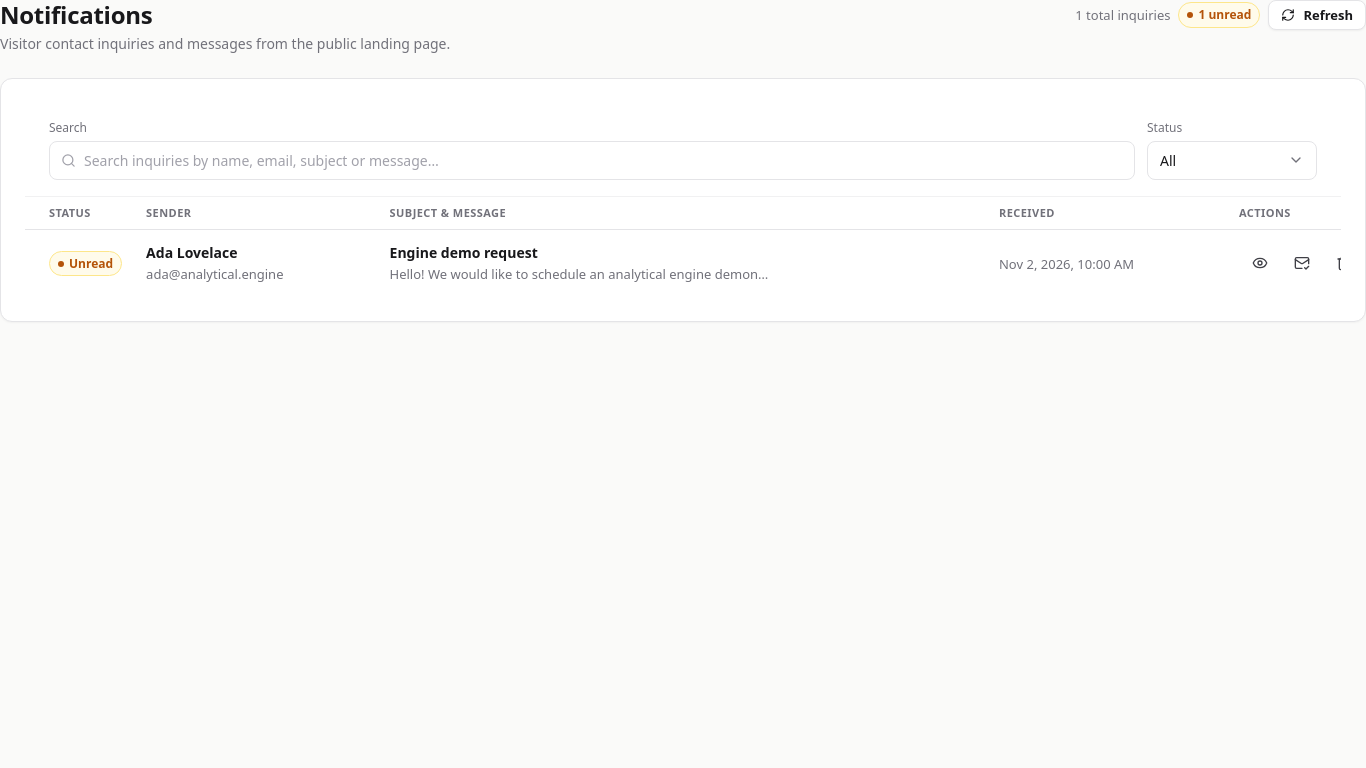
Test: AdminNotificationsPage › opens details modal and automatically marks unread message as read
The width and height of the screenshot is (1366, 768).
Click the text "Ada Lovelace" at [192, 253], box [146,243,238,262]
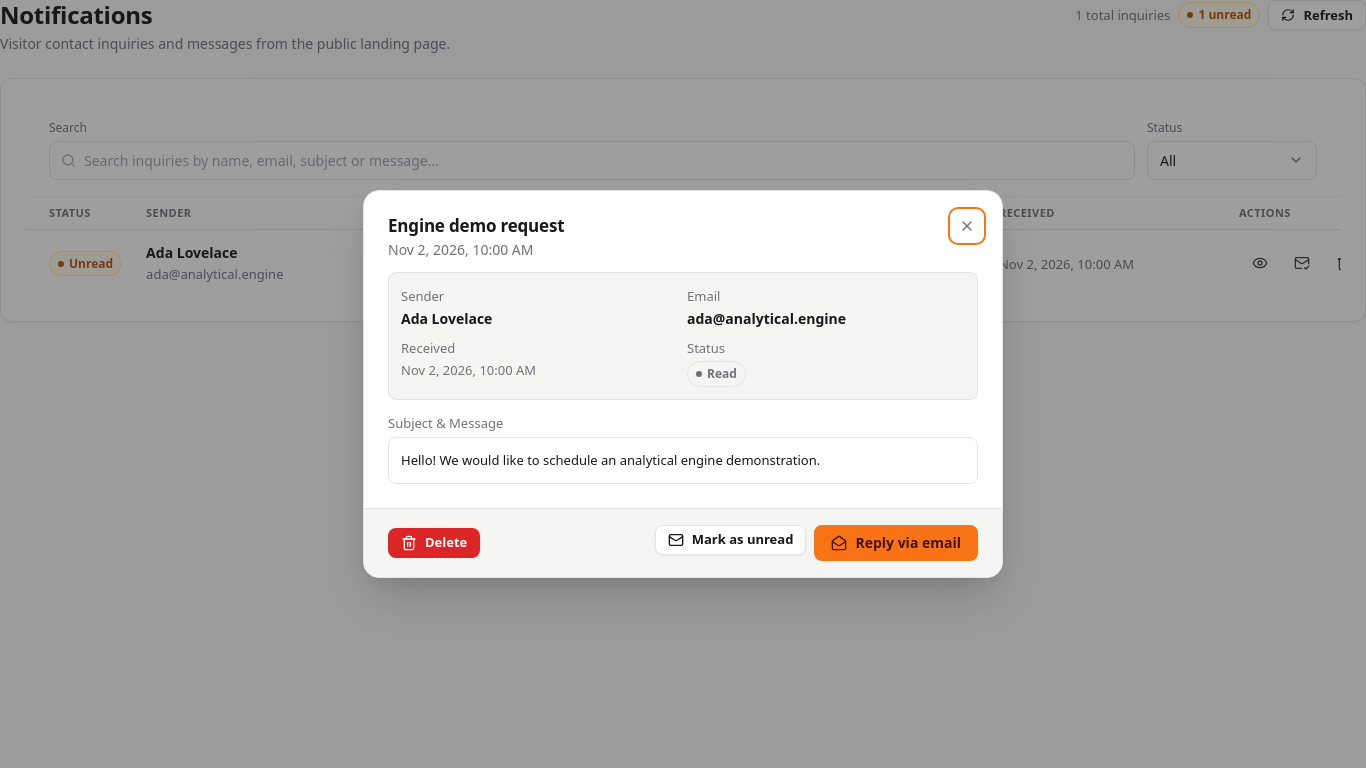
Check: the text "Reply via email" is shown, box [855,536,961,550]
